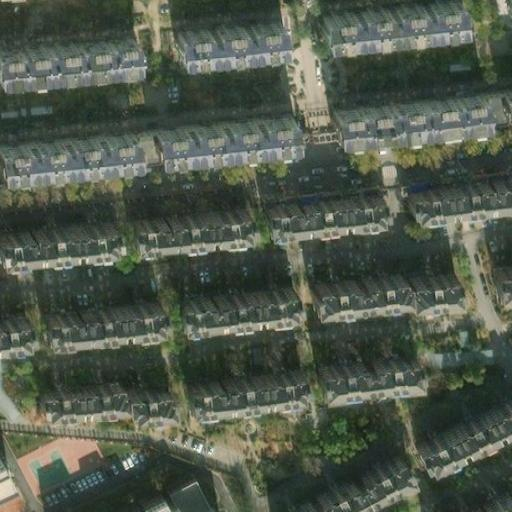building: (272, 447, 403, 512), (333, 89, 484, 138), (148, 108, 290, 155), (414, 392, 512, 459), (0, 132, 133, 177), (304, 267, 454, 300), (33, 374, 165, 411), (171, 279, 287, 316), (126, 201, 242, 238), (174, 14, 281, 54), (397, 178, 512, 215), (181, 366, 299, 402), (261, 187, 385, 221), (41, 298, 157, 333), (0, 217, 112, 253), (314, 355, 416, 389), (454, 481, 512, 512), (159, 475, 205, 512), (0, 456, 26, 510), (487, 259, 512, 285), (0, 310, 18, 338)
